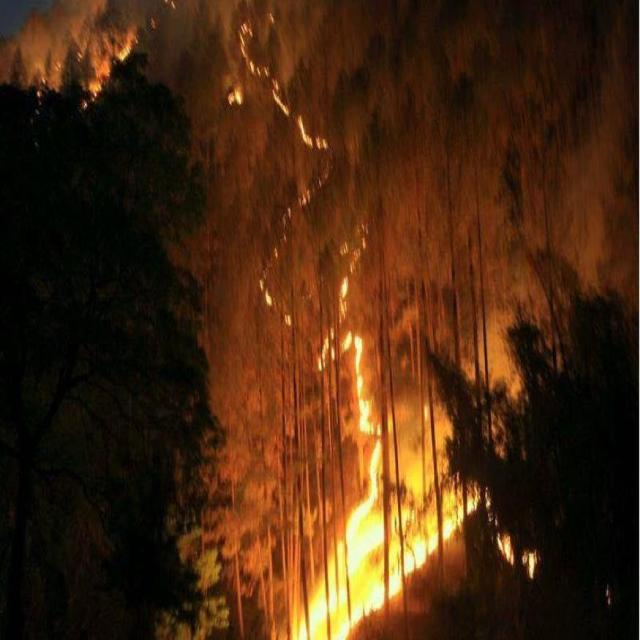Fire: (232, 25, 476, 640)
